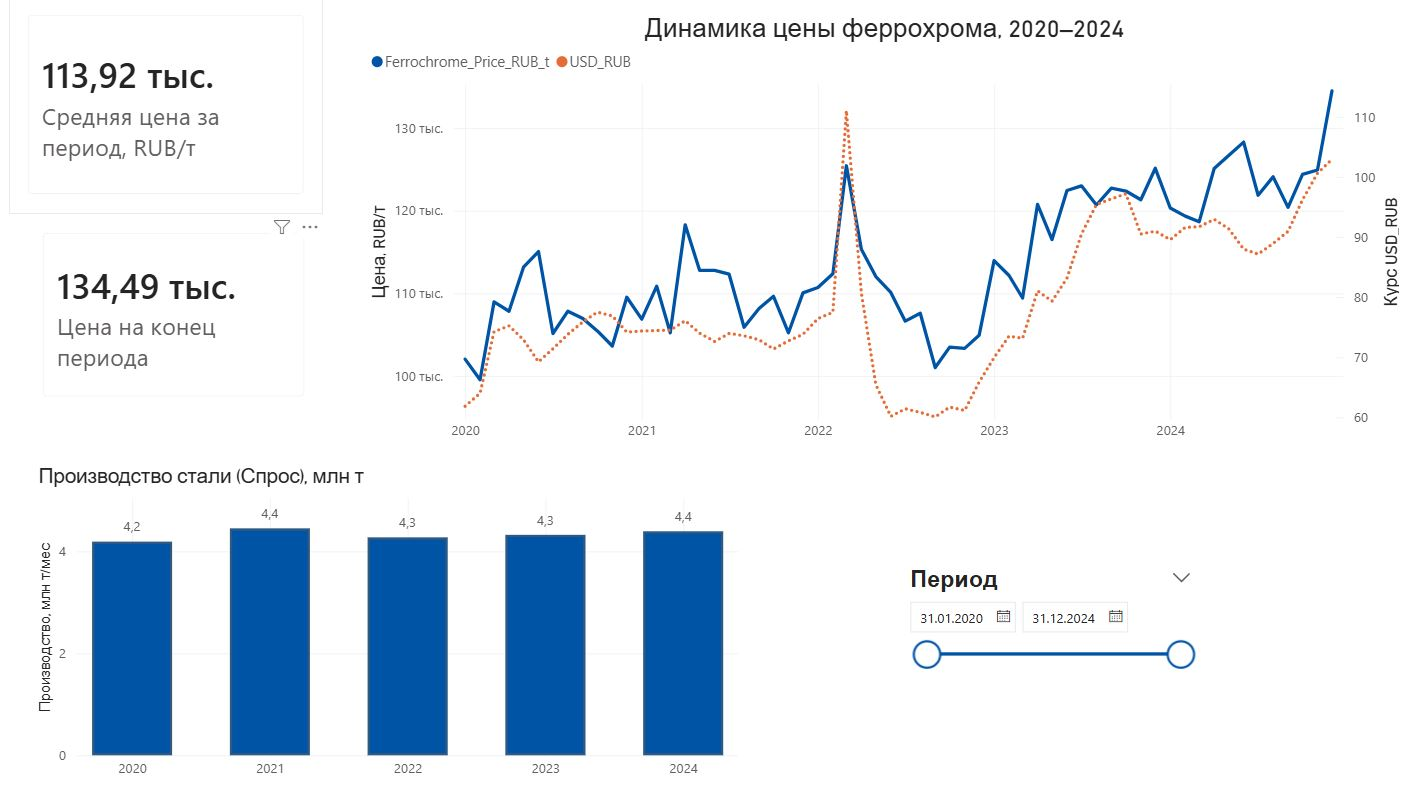

The dashboard page shown, as its layout file describes it:
{"tool":"powerbi","page":{"name":"Страница 1","canvas":[1280,720],"ordinal":0},"visuals":[{"type":"cardVisual","fields":{"Data":["CHEMK_Full_Dataset.Цена на конец периода"]},"box":[24.7,197.9,272.1,183.4],"z":0},{"type":"cardVisual","fields":{"Data":["Avg(CHEMK_Full_Dataset.Ferrochrome_Price_RUB_t)"]},"box":[11.3,0,285.5,197.9],"z":1000},{"type":"lineChart","title":"Динамика цены феррохрома, 2020–2024","fields":{"Category":["CHEMK_Full_Dataset.Date.Изменение.Иерархия дат.Год","CHEMK_Full_Dataset.Date.Изменение.Иерархия дат.Квартал","CHEMK_Full_Dataset.Date.Изменение.Иерархия дат.Месяц","CHEMK_Full_Dataset.Date.Изменение.Иерархия дат.День"],"Y":["Sum(CHEMK_Full_Dataset.Ferrochrome_Price_RUB_t)"],"Y2":["Sum(CHEMK_Full_Dataset.USD_RUB)"]},"box":[334.9,15.5,945.1,397.8],"z":2000},{"type":"slicer","fields":{"Values":["CHEMK_Full_Dataset.Date"]},"box":[817.3,513.2,280.3,173.1],"z":3000},{"type":"clusteredColumnChart","title":"Производство стали (Спрос), млн т","fields":{"Y":["Avg(CHEMK_Full_Dataset.Steel_Production_RU_mln_t)"],"Category":["CHEMK_Full_Dataset.Date.Изменение.Иерархия дат.Год","CHEMK_Full_Dataset.Date.Изменение.Иерархия дат.Квартал","CHEMK_Full_Dataset.Date.Изменение.Иерархия дат.Месяц","CHEMK_Full_Dataset.Date.Изменение.Иерархия дат.День"]},"box":[33,425.6,646.2,294.8],"z":4000}]}

Visuals, with their boxes in screenshot pixels (x1, y1, x2, y2), scaled from the page's 1280x720 canvas onto the 1404x787 screenshot:
cardVisual - CHEMK_Full_Dataset.Цена на конец периода: <region>27, 216, 326, 417</region>
cardVisual - Avg(CHEMK_Full_Dataset.Ferrochrome_Price_RUB_t): <region>12, 0, 326, 216</region>
"Динамика цены феррохрома, 2020–2024" lineChart: <region>367, 17, 1403, 452</region>
slicer - CHEMK_Full_Dataset.Date: <region>896, 561, 1204, 750</region>
"Производство стали (Спрос), млн т" clusteredColumnChart: <region>36, 465, 745, 786</region>
